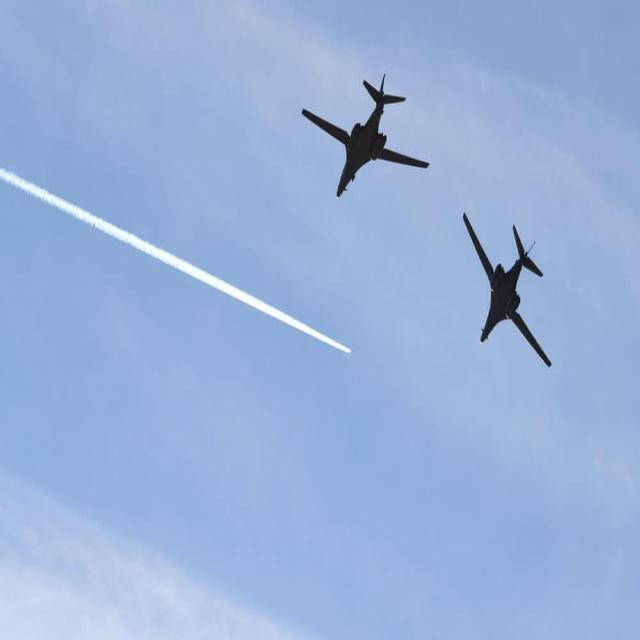MIL_Plane: (334, 8, 398, 135), (462, 243, 551, 334)
